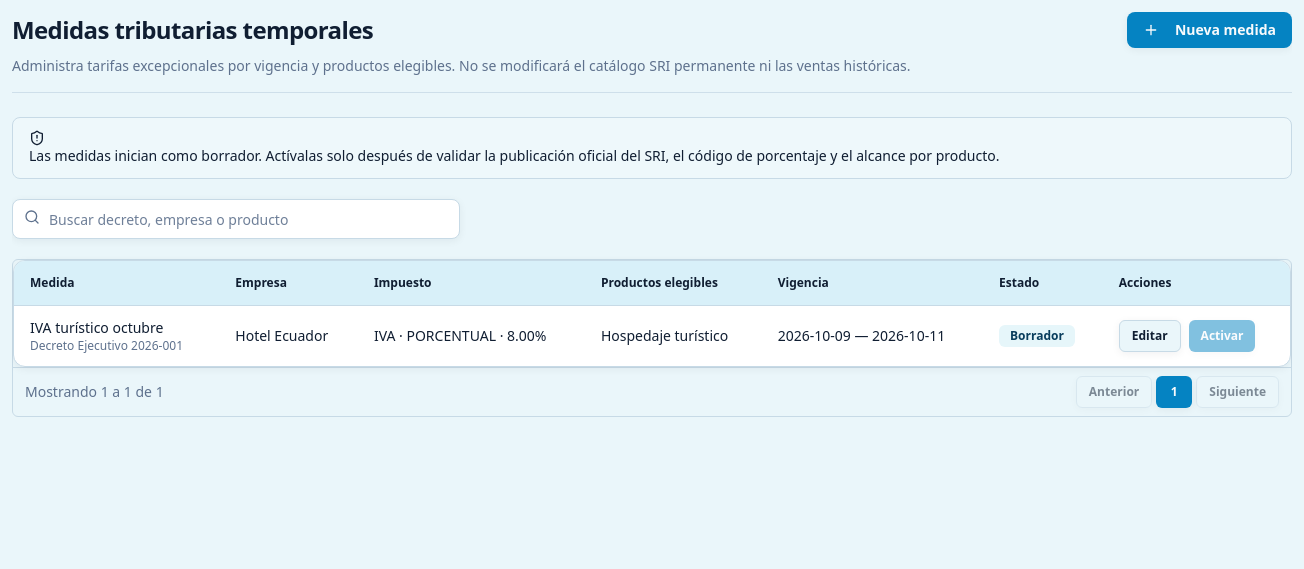
Test: TemporaryTaxMeasuresPage › permite buscar por nombre y bloquea activación sin confirmar código SRI
The image size is (1304, 569).
Expected: the button "Activar" is disabled, [1189,320,1255,352]
In the field named "Buscar medidas": (236, 219) [12,199,460,239], type "decreto"
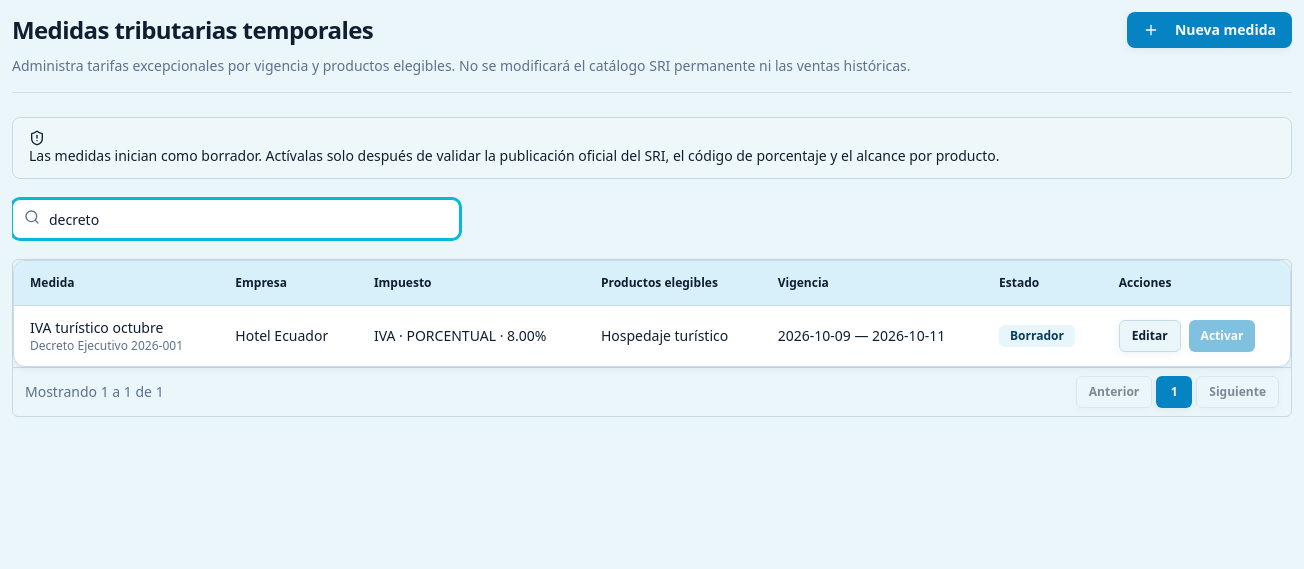
Expected: the text "IVA turístico octubre" is shown, [30,318,163,336]
Replace the text in the field named "Buscar medidas" with "no existe": (236, 219) [12,199,460,239]
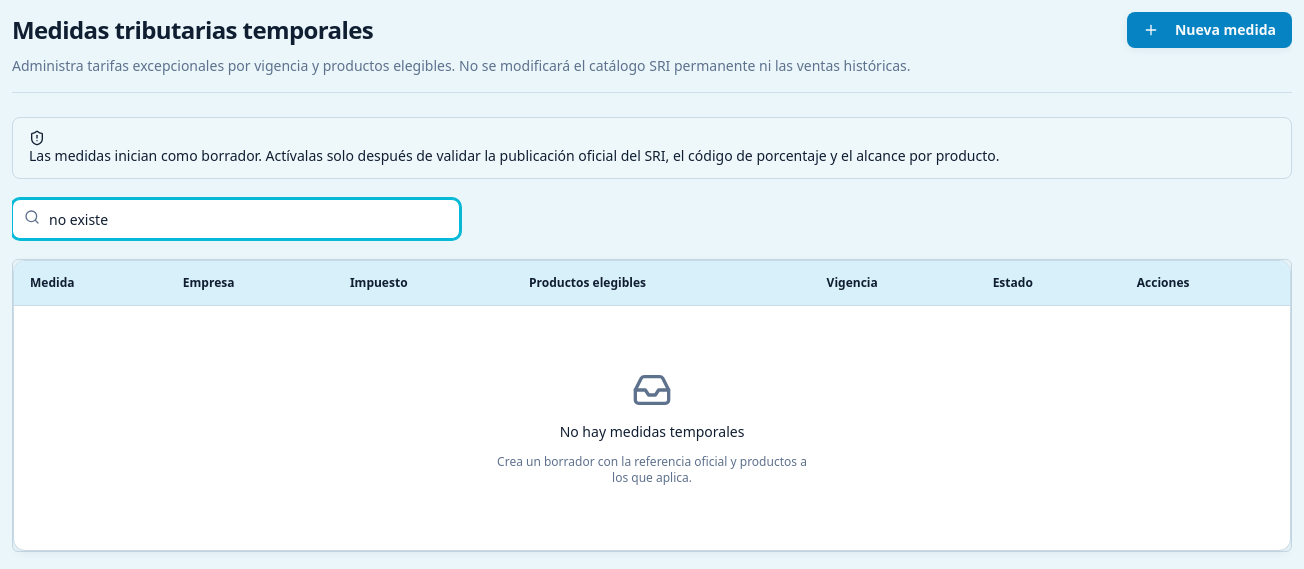
Now the text "No hay medidas temporales" is shown, box [560,422,744,442]
